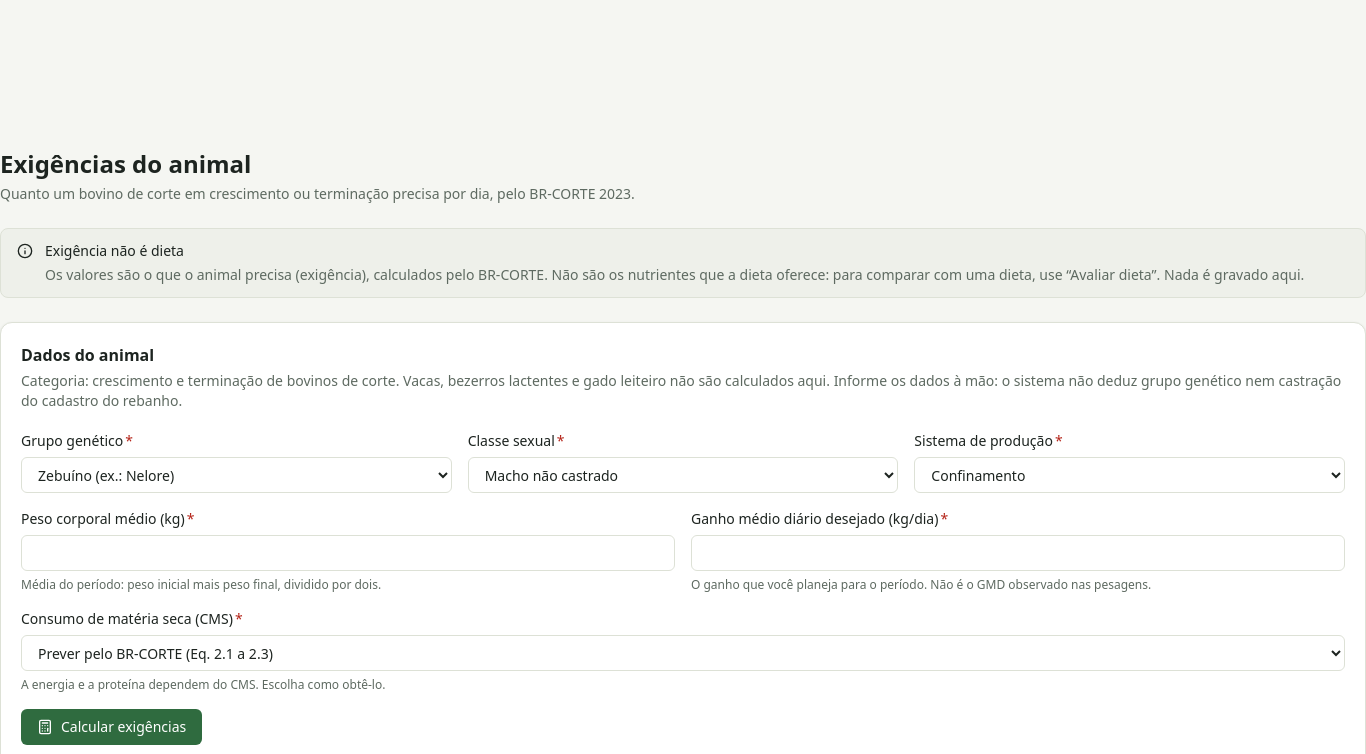
Test: Tela de exigências (6A-7) › T-04: envia a entrada, mostra os valores com unidade e explica o cálculo
(page scrolled)
Type "520" into the field labelled "Peso corporal médio (kg)*" at (348, 553), box [21,535,675,571]
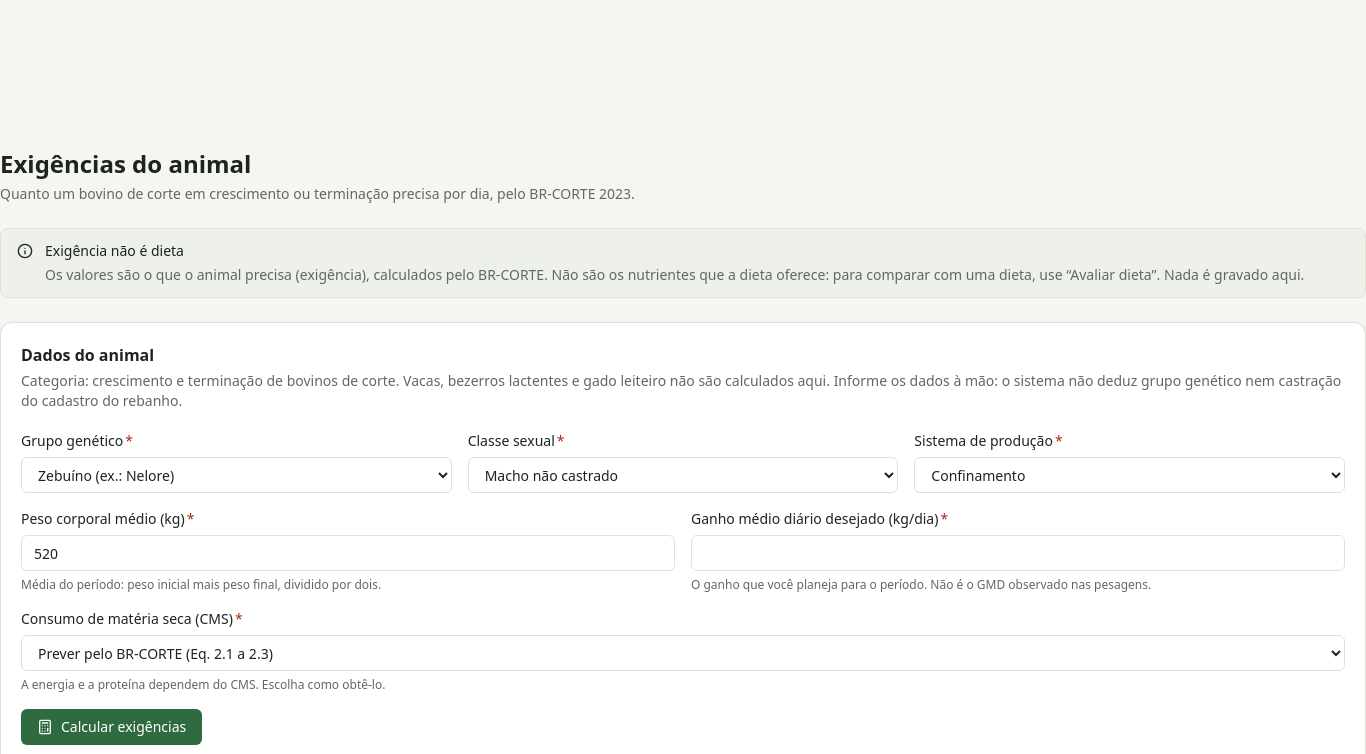
Type "1,4" into the field labelled "Ganho médio diário desejado (kg/dia)*" at (1018, 553), box [691,535,1345,571]
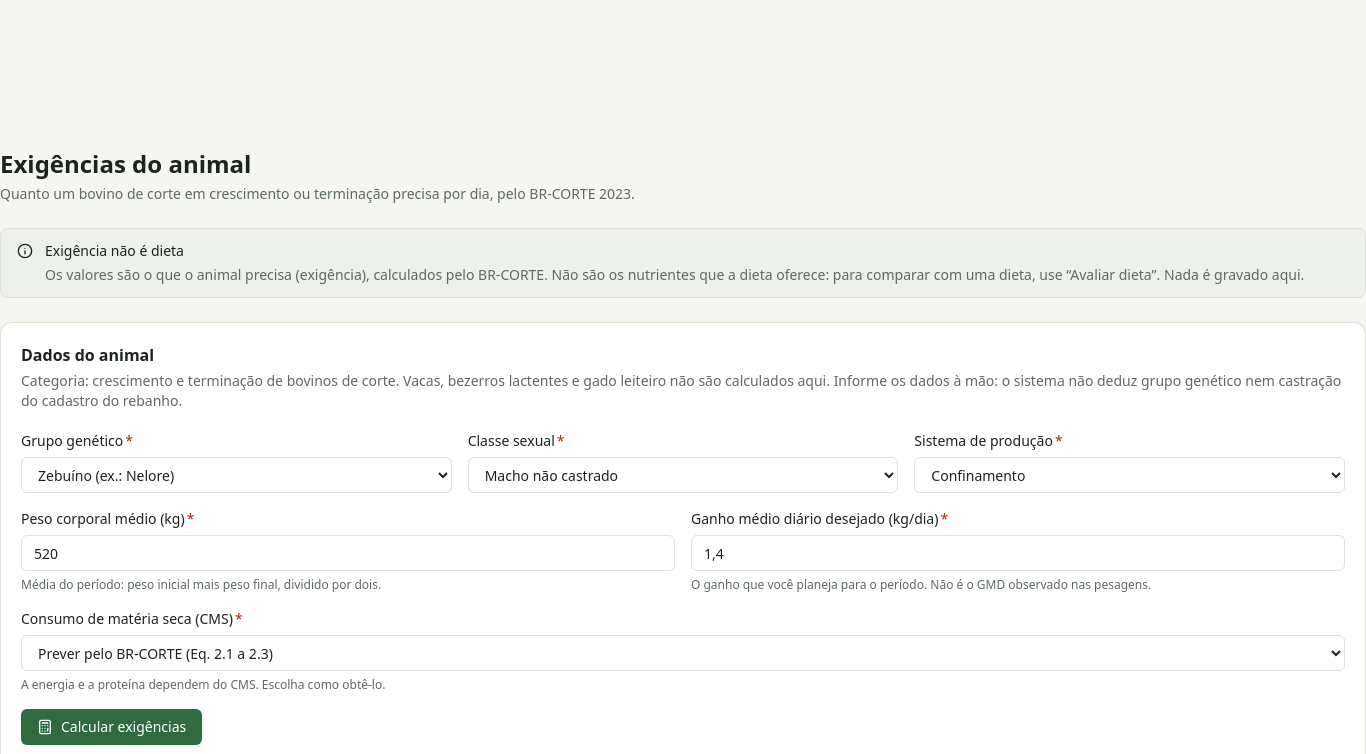
Click the button "Calcular exigências" at (112, 727), box [21,709,202,745]
(page scrolled)
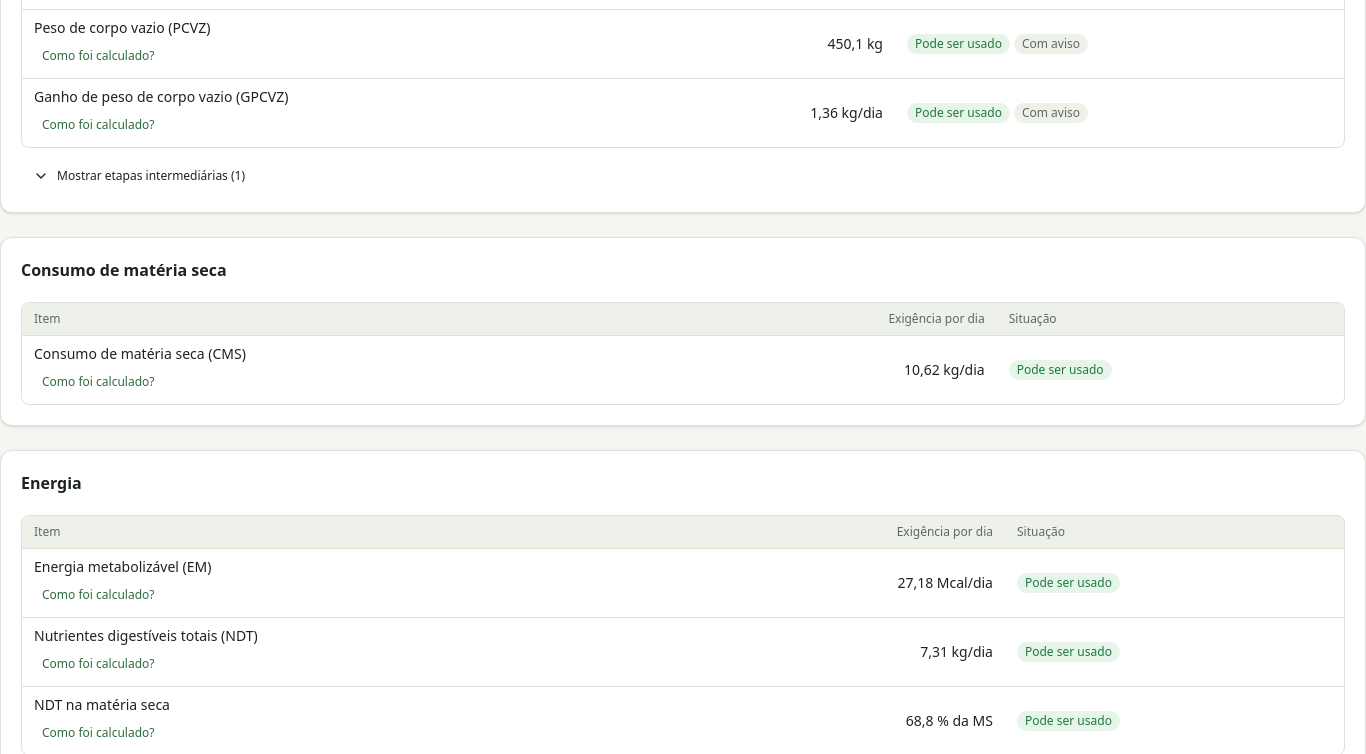
Expected: the text "10,62 kg/dia" is shown, [904,360,985,379]
Expected: the text "7,31 kg/dia" is shown, [920,642,993,661]
Click the button "Como foi calculado?" in the row of "10,62 kg/dia" at (98, 382), box [34,368,162,396]
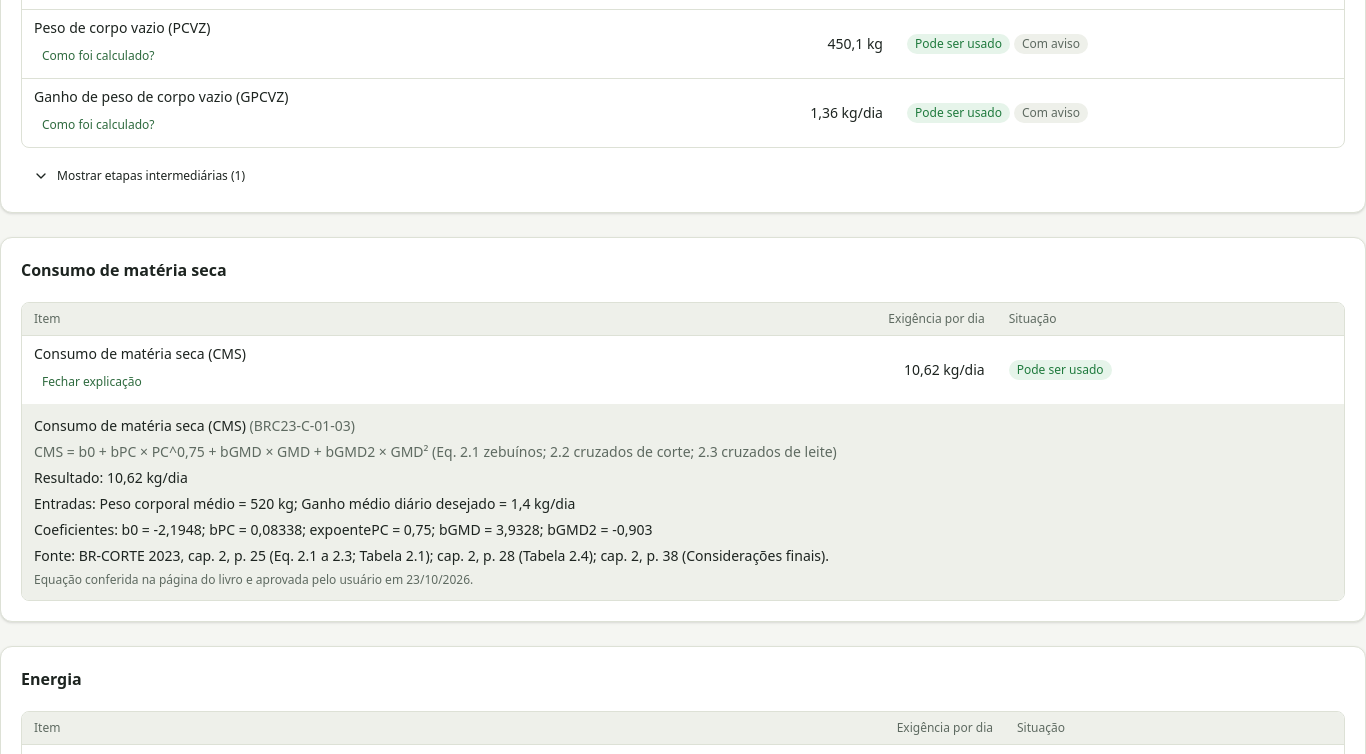
Expected: the element with test id "detalhe-calculo" shows "BRC23-C-01-03", [254,416,351,435]
Expected: the element with test id "detalhe-calculo" shows "cap. 2, p. 25", [188,546,825,565]
Expected: the element with test id "detalhe-calculo" shows "Peso corporal médio = 520 kg", [99,494,575,513]
